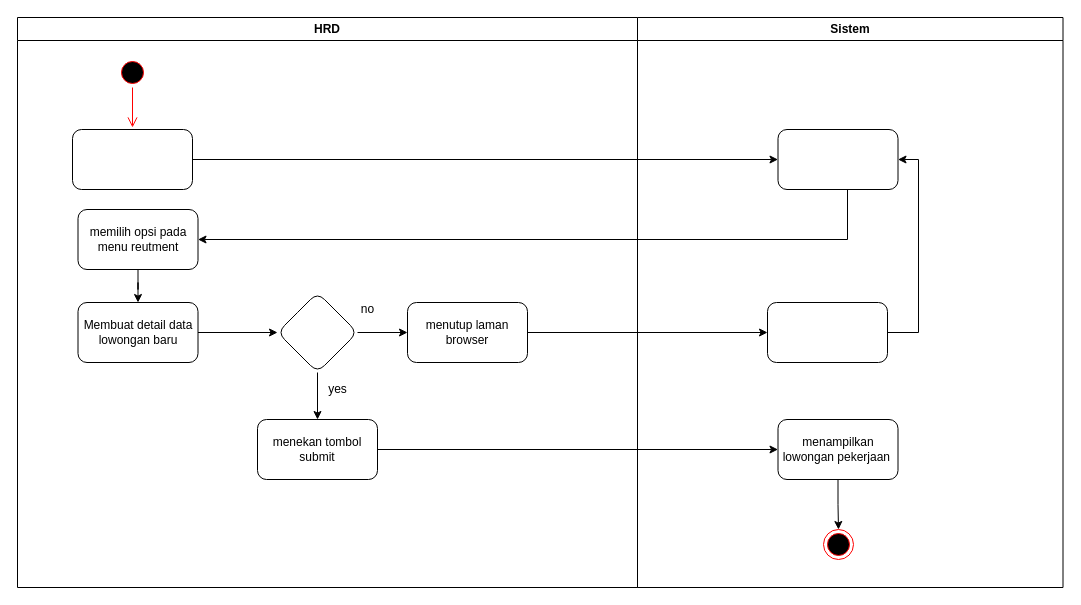
This 1081x605 diagram has some shape labels left out. Each missing label, with the box of its shape:
menampilkan menu recuitment: (777, 128, 898, 190)
Menapilkan pesan gagal menmpilkan lowongan pekerjaan: (766, 302, 888, 362)
Menekan tombol recitment: (72, 128, 192, 190)
